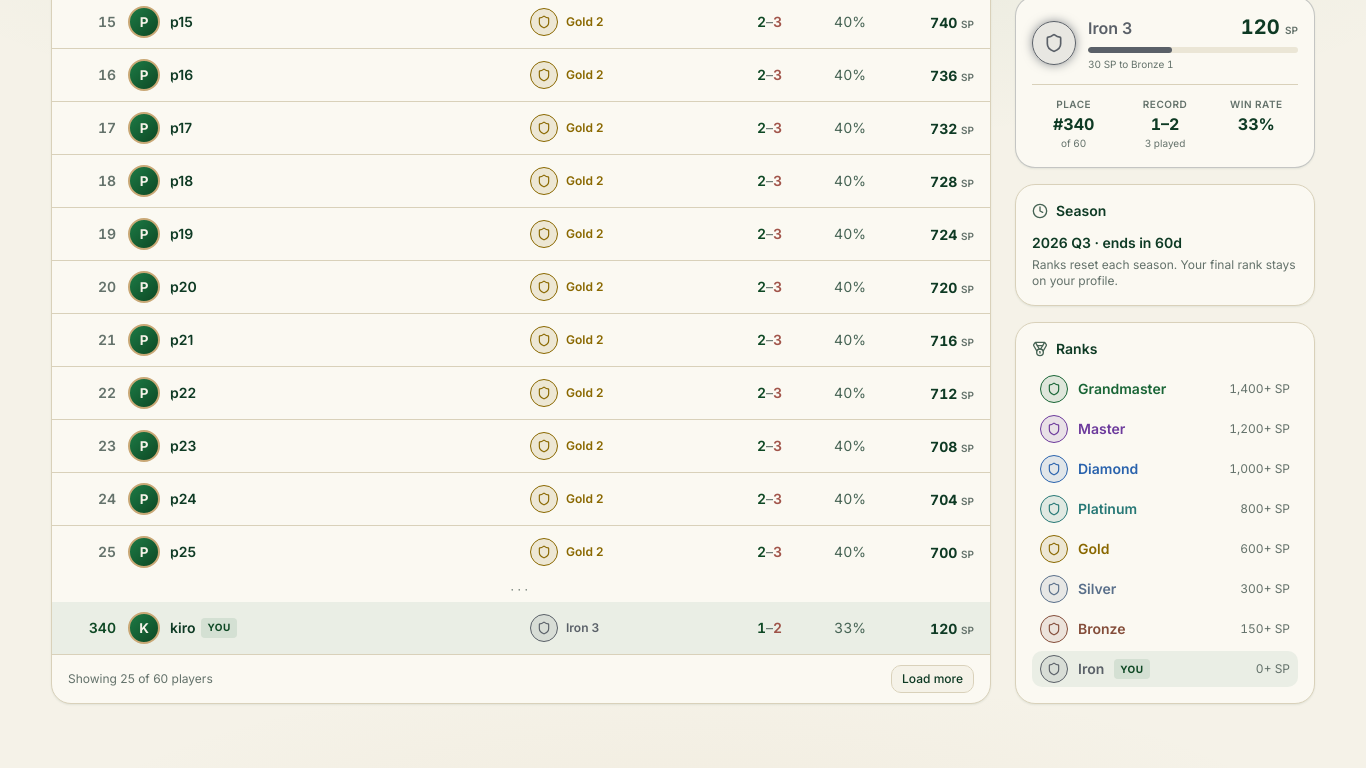
Test: LeaderboardPage › reads the viewer standing and the total from the newest page
The image size is (1366, 768).
(page scrolled)
Expected: the list with test id "leaderboard-pinned" shows "340", [89, 619, 116, 636]
Step 1. Click the button with test id "leaderboard-load-more" → [932, 679], box [891, 665, 974, 693]
(page scrolled)
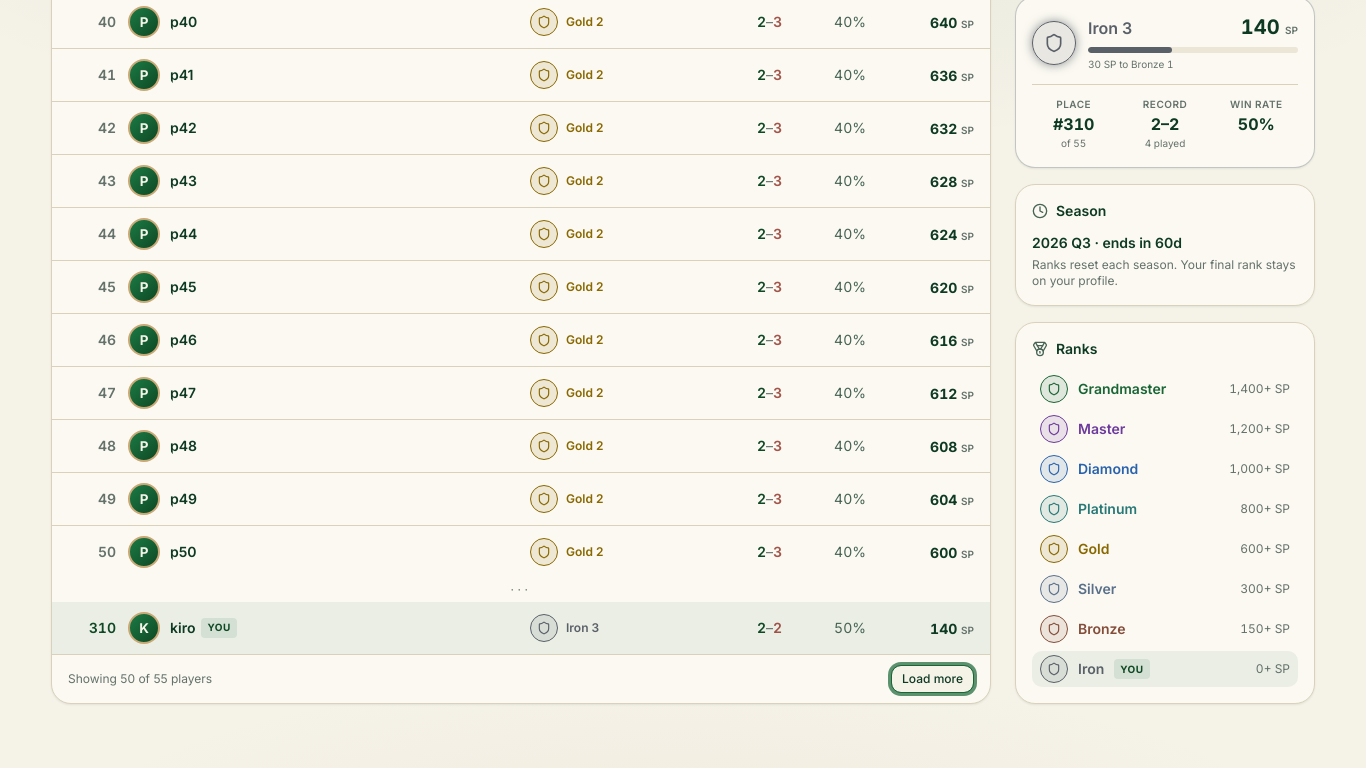
Expected: the list with test id "leaderboard-pinned" shows "310", [89, 619, 116, 636]
Expected: the text with test id "leaderboard-count" shows "55", [68, 671, 212, 686]
